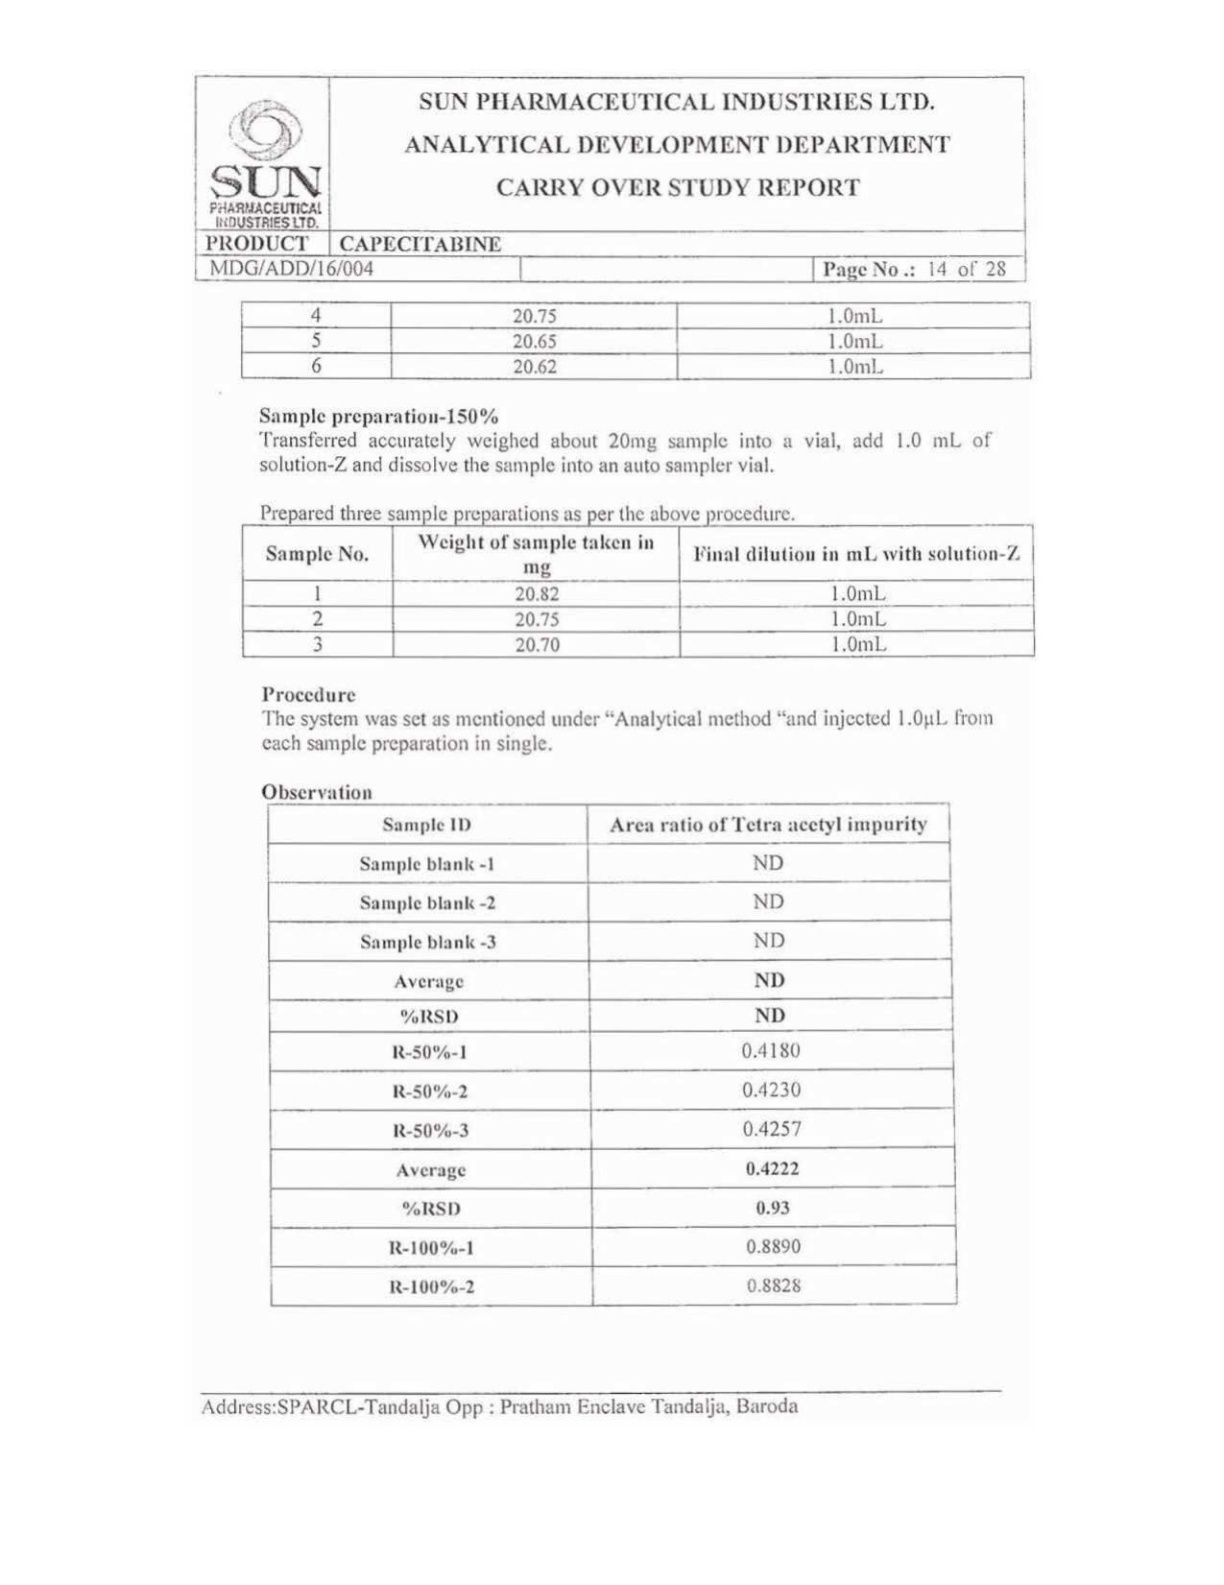full_lined: (265, 801, 960, 1307), (239, 524, 1038, 657), (238, 300, 1034, 381)
merged_cells: (193, 72, 1029, 284)
